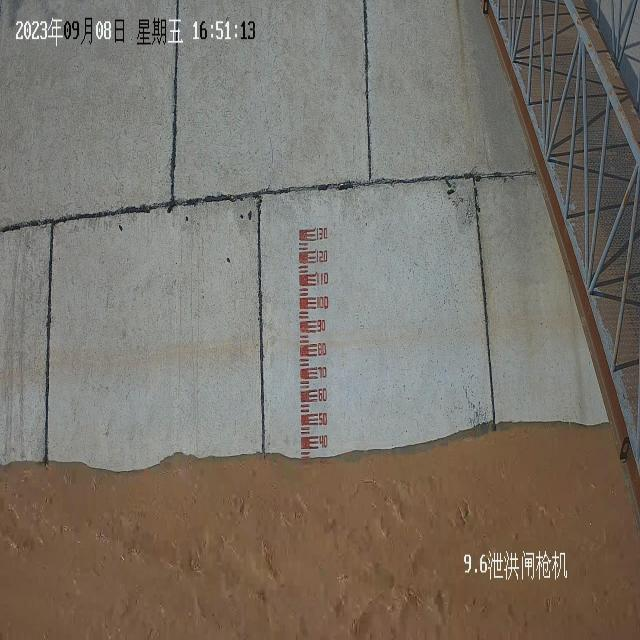ruler: (296, 223, 332, 455)
value: (316, 269, 330, 289), (315, 225, 329, 243), (316, 293, 330, 311), (316, 339, 328, 359), (315, 248, 328, 266), (317, 385, 329, 404), (316, 316, 328, 334), (316, 364, 328, 382), (317, 410, 328, 428), (318, 432, 329, 450)
